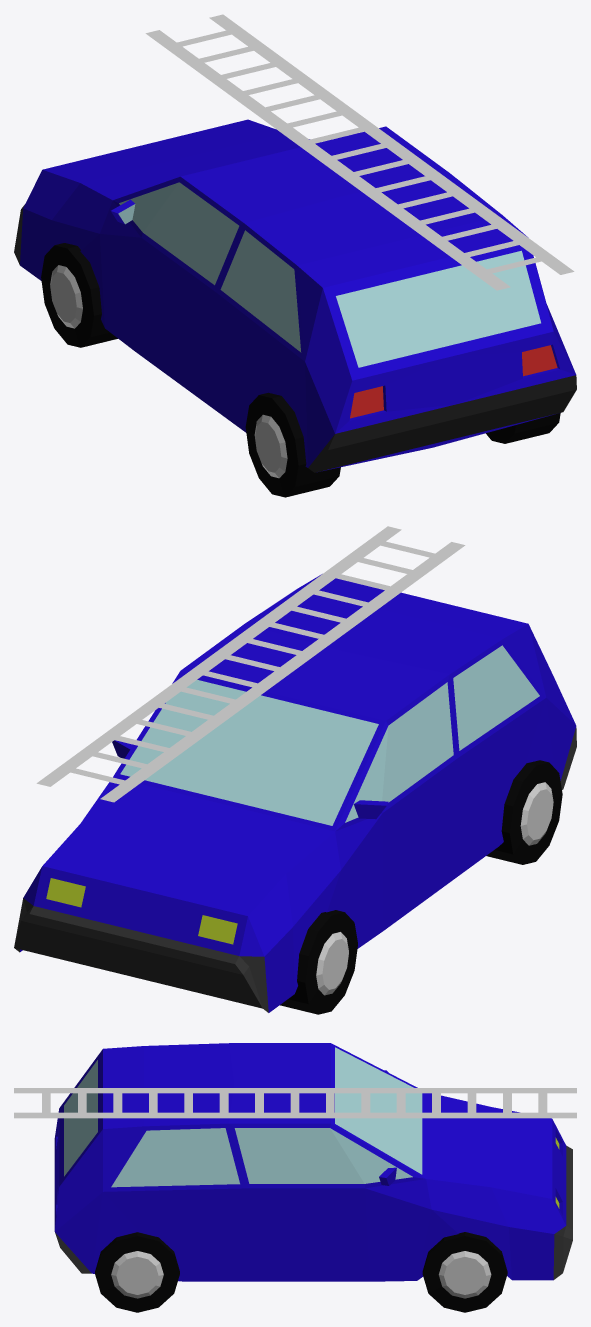
The model's file is CarroMaisRapido.fbx.
The picture shows the model from 3 angles, top to bottom: view 1: azimuth 30°, elevation 25°; view 2: azimuth 150°, elevation 25°; view 3: azimuth 270°, elevation 25°; orthographic projection. The views are drawn at different scales.
Visible parts, largest first — view 1: Carro sem seta.002, Escada em cima; view 2: Carro sem seta.002, Escada em cima; view 3: Carro sem seta.002, Escada em cima.
Part boxes in pixels (x1,y1,x2,y2): Carro sem seta.002: (14, 119, 576, 497); Escada em cima: (145, 14, 574, 290); Carro sem seta.002: (14, 574, 576, 1014); Escada em cima: (36, 526, 465, 802); Carro sem seta.002: (54, 1043, 572, 1312); Escada em cima: (14, 1088, 576, 1118).
Size of the model in its own units: 636 by 289 by 225.
